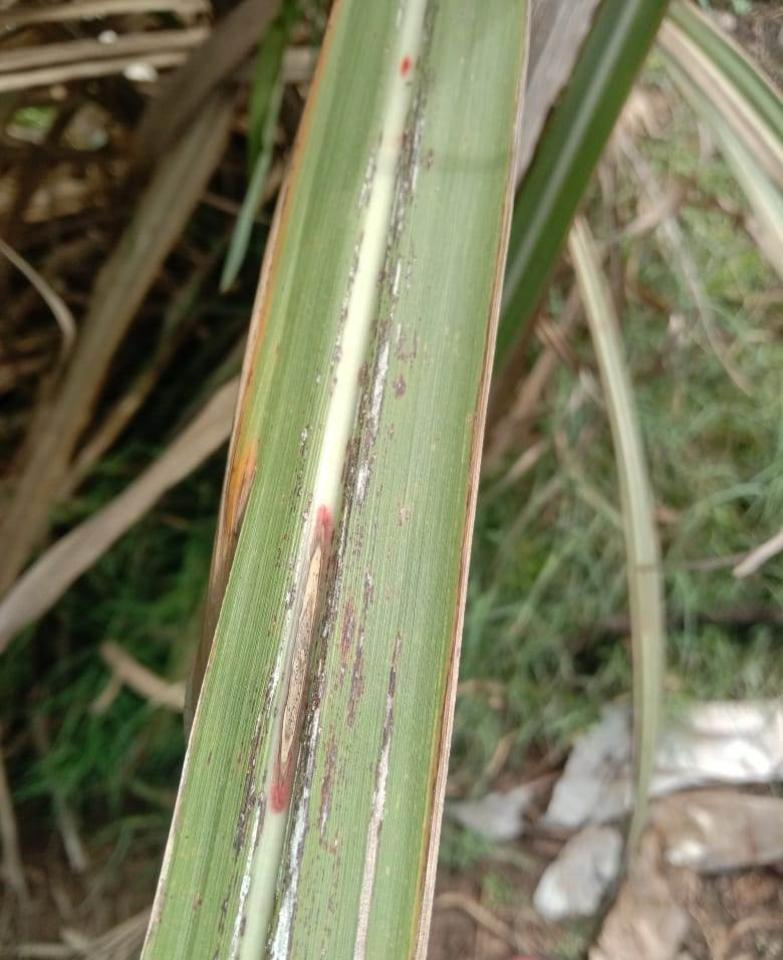RedRot: (271, 502, 336, 816)
Rust: (267, 250, 404, 959), (229, 493, 312, 959), (376, 0, 438, 294), (353, 628, 405, 959), (328, 227, 365, 395), (343, 561, 377, 730), (315, 721, 344, 916), (211, 870, 239, 959), (356, 128, 384, 215), (335, 589, 355, 692), (294, 422, 313, 499), (393, 321, 421, 371), (390, 372, 407, 400), (426, 148, 435, 173)
